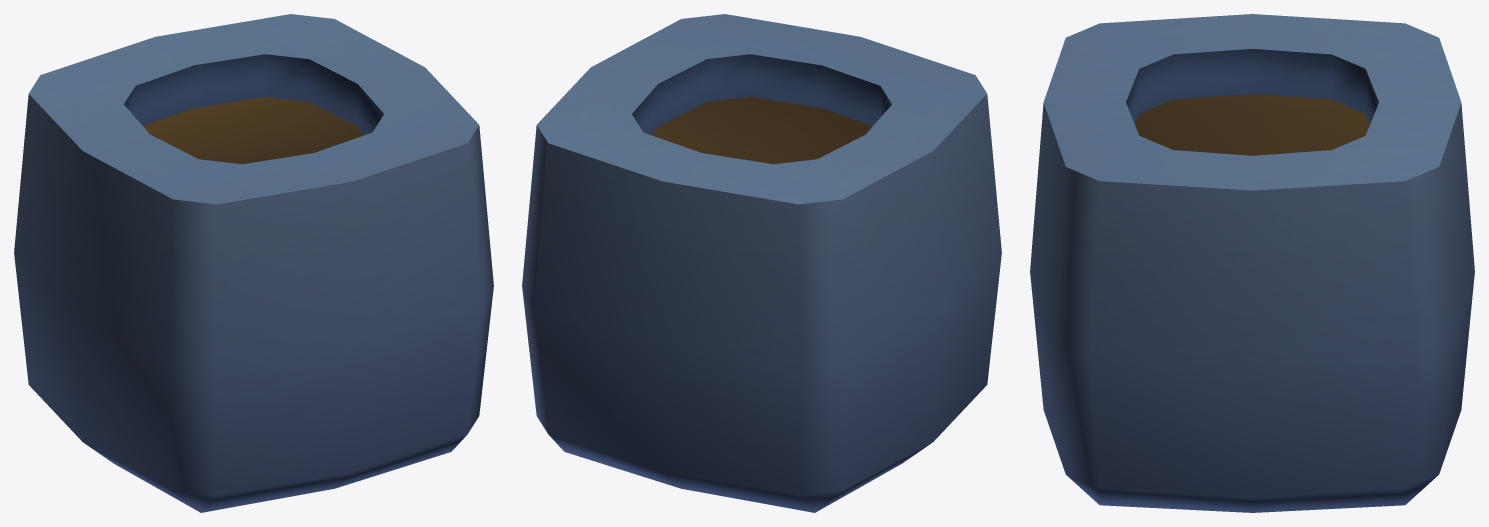
Rendered from flower_pot_big_blue.fbx.
3 renders of one model, left to right at view 1: azimuth 30°, elevation 25°; view 2: azimuth 150°, elevation 25°; view 3: azimuth 270°, elevation 25°, orthographic. The views are drawn at different scales.
Parts seen in each view (by area): view 1: flower_pot_big_blue; view 2: flower_pot_big_blue; view 3: flower_pot_big_blue.
Part boxes in pixels (x1=…): flower_pot_big_blue: x1=14, y1=14, x2=493, y2=512; flower_pot_big_blue: x1=522, y1=14, x2=1001, y2=512; flower_pot_big_blue: x1=1030, y1=14, x2=1474, y2=512.
Size of the model in its own units: 59.57 by 50 by 59.57.
